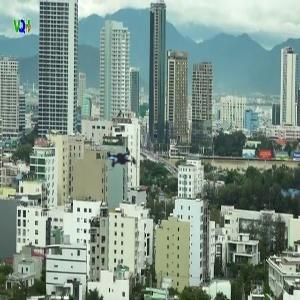drone: (93, 131, 152, 190)
